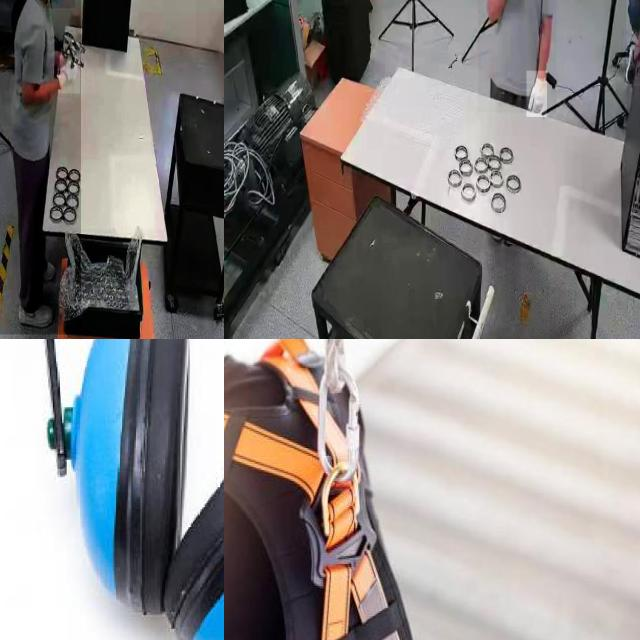Ear-protection: (39, 339, 224, 640)
Harness: (224, 339, 412, 640)
hand_glove: (526, 70, 548, 118), (59, 56, 80, 94)
person: (0, 0, 81, 335), (478, 0, 557, 113)
shoes: (15, 292, 55, 332)
